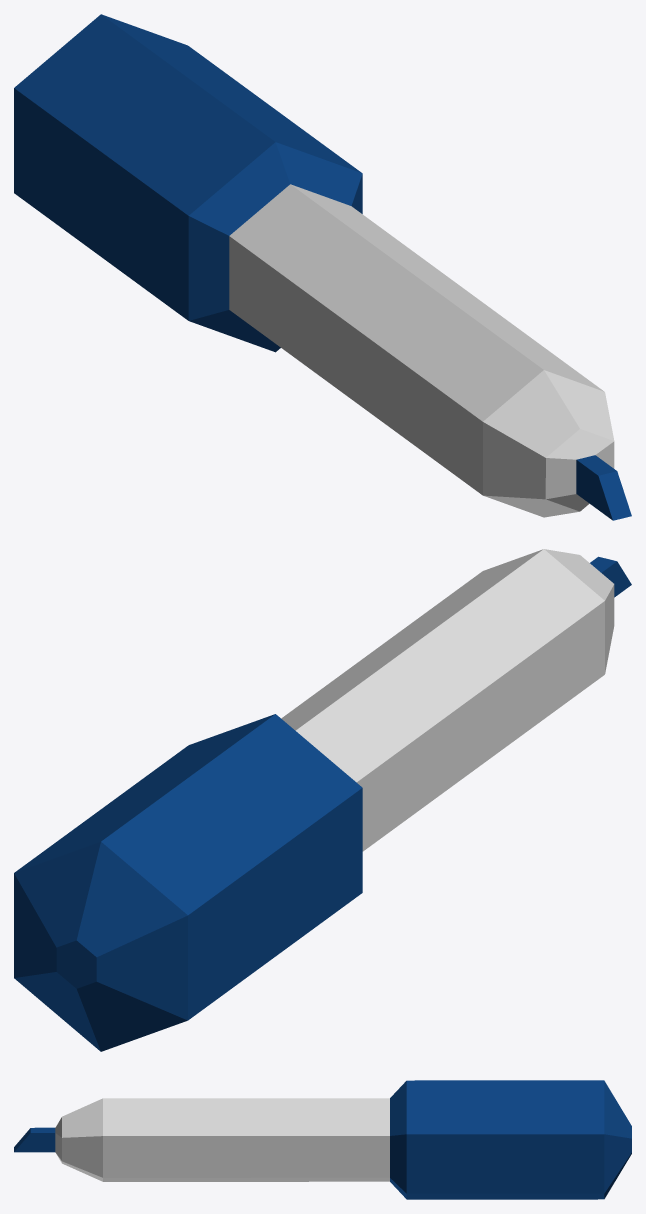
File: PenMarkerV1Blue.fbx
The picture shows the model from 3 angles, top to bottom: view 1: azimuth 30°, elevation 25°; view 2: azimuth 150°, elevation 25°; view 3: azimuth 270°, elevation 25°; orthographic projection. The views are drawn at different scales.
Parts seen in each view (by area): view 1: PenMarkerV1Blue; view 2: PenMarkerV1Blue; view 3: PenMarkerV1Blue.
Part boxes in pixels (left/top/right/bottom): PenMarkerV1Blue: left=14, top=14, right=631, bottom=520; PenMarkerV1Blue: left=14, top=549, right=631, bottom=1051; PenMarkerV1Blue: left=14, top=1080, right=631, bottom=1199.
Size of the model in its own units: 1.93 by 2.23 by 10.48.
